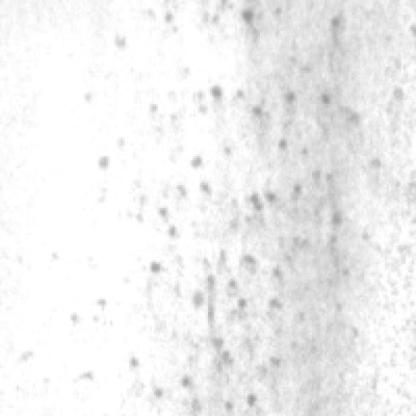pitted_surface: (118, 0, 362, 393)
